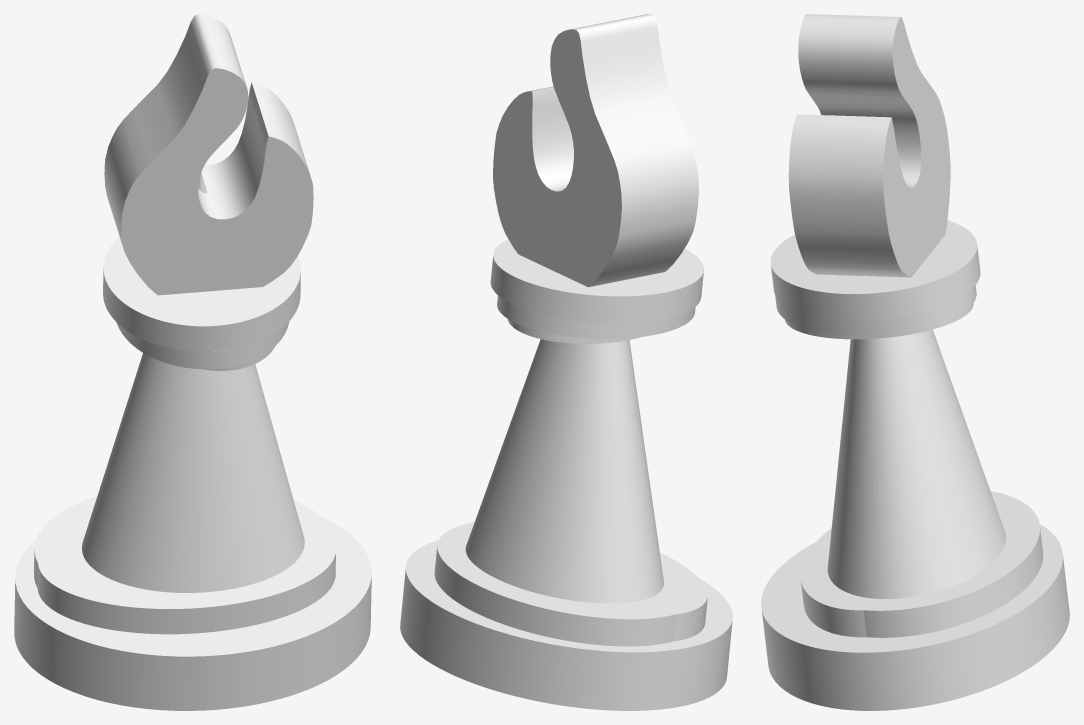
3 views of the same model, side by side, from view 1: azimuth 30°, elevation 25°; view 2: azimuth 150°, elevation 25°; view 3: azimuth 270°, elevation 25° (orthographic).
Visible parts, largest first — view 1: mesh_id341, mesh_id344, mesh_id333, mesh_id367, mesh_id349, mesh_id355, mesh_id361; view 2: mesh_id341, mesh_id344, mesh_id333, mesh_id355, mesh_id367, mesh_id361, mesh_id349, mesh_id375; view 3: mesh_id341, mesh_id344, mesh_id333, mesh_id367, mesh_id355, mesh_id361, mesh_id349, mesh_id375.
Part boxes in pixels (left/top/right/bottom): mesh_id341: left=104, top=14, right=313, bottom=295; mesh_id344: left=82, top=172, right=304, bottom=592; mesh_id333: left=14, top=516, right=371, bottom=710; mesh_id367: left=103, top=237, right=300, bottom=351; mesh_id349: left=37, top=531, right=335, bottom=634; mesh_id355: left=34, top=496, right=333, bottom=608; mesh_id361: left=117, top=321, right=289, bottom=369; mesh_id341: left=493, top=14, right=698, bottom=287; mesh_id344: left=465, top=339, right=663, bottom=603; mesh_id333: left=400, top=540, right=732, bottom=710; mesh_id355: left=434, top=522, right=702, bottom=646; mesh_id367: left=490, top=239, right=703, bottom=323; mesh_id361: left=497, top=295, right=695, bottom=338; mesh_id349: left=461, top=539, right=707, bottom=641; mesh_id375: left=507, top=319, right=640, bottom=343; mesh_id341: left=788, top=14, right=950, bottom=277; mesh_id344: left=827, top=329, right=1005, bottom=598; mesh_id333: left=761, top=524, right=1069, bottom=710; mesh_id367: left=770, top=220, right=980, bottom=321; mesh_id355: left=802, top=491, right=1043, bottom=637; mesh_id361: left=775, top=285, right=976, bottom=335; mesh_id349: left=800, top=502, right=1005, bottom=637; mesh_id375: left=785, top=303, right=973, bottom=339.
Size of the model in its own units: 0.0673 by 0.1324 by 0.0581.
Materials: 8 (8 with a texture image).
